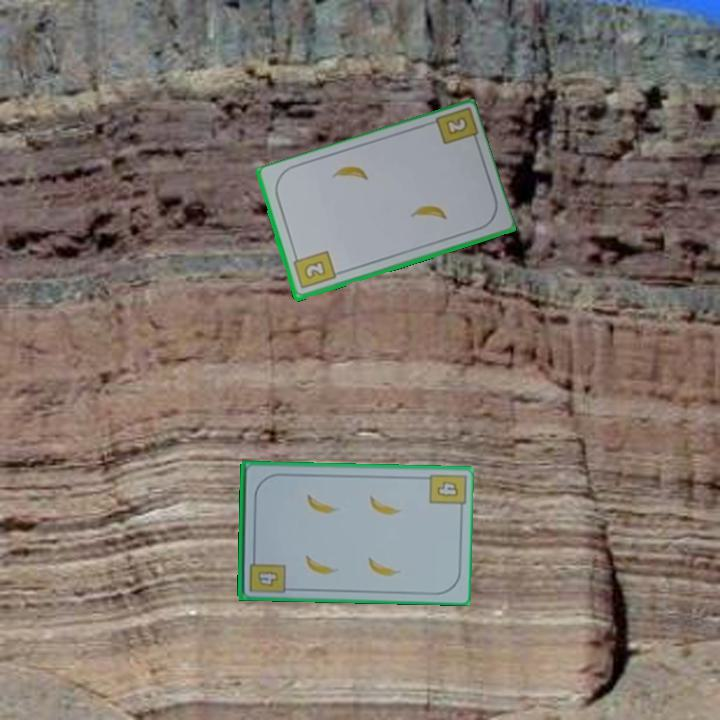2b: (289, 248, 338, 292), (444, 115, 468, 136)
4b: (246, 551, 287, 596), (434, 477, 461, 500)
